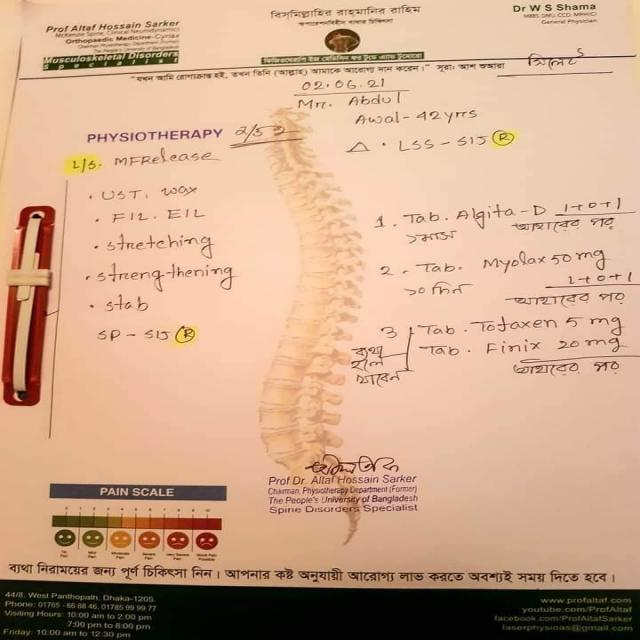Algita D: (443, 198, 552, 224)
Finix: (481, 337, 547, 359)
Myolax: (473, 246, 552, 274)
Tofaxen: (464, 311, 562, 334)
